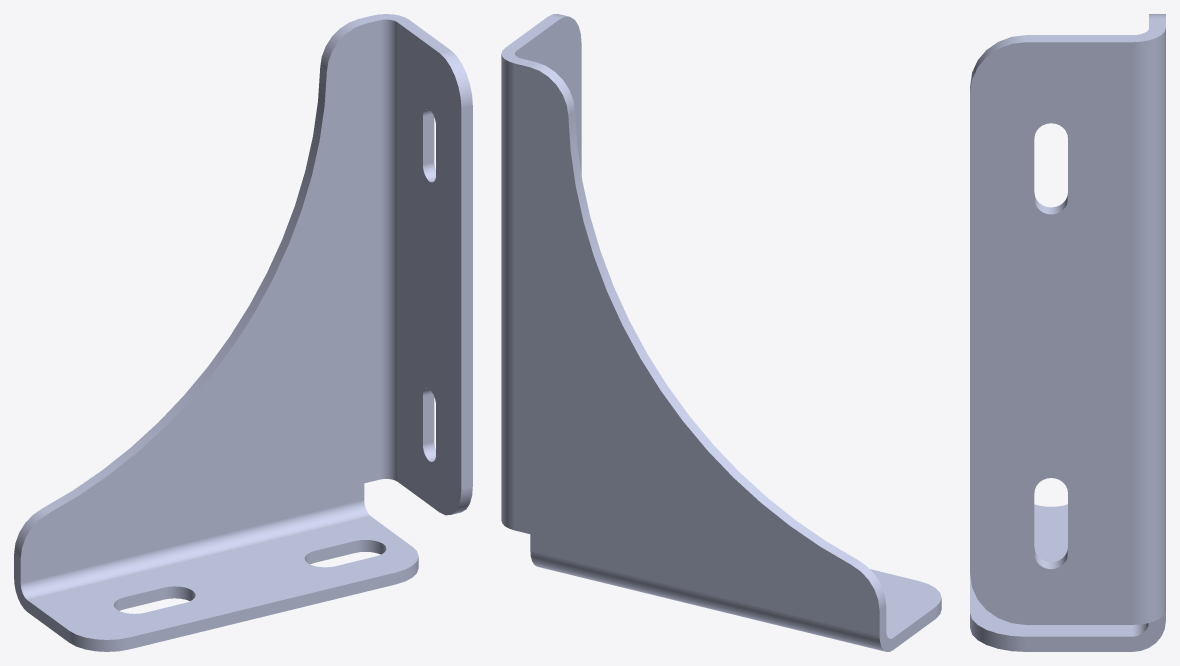
File: PRIVACY_PANEL_BRACKET_RHS.gltf
3 renders of one model, left to right at view 1: azimuth 30°, elevation 25°; view 2: azimuth 150°, elevation 25°; view 3: azimuth 270°, elevation 25°, orthographic. The views are drawn at different scales.
Visible parts, largest first — view 1: PRIVACY PANEL BRACKET_25mm THKMirror; view 2: PRIVACY PANEL BRACKET_25mm THKMirror; view 3: PRIVACY PANEL BRACKET_25mm THKMirror.
Boxes of the visible parts, left/top/right/bottom form: PRIVACY PANEL BRACKET_25mm THKMirror: left=14, top=14, right=472, bottom=651; PRIVACY PANEL BRACKET_25mm THKMirror: left=501, top=14, right=941, bottom=651; PRIVACY PANEL BRACKET_25mm THKMirror: left=970, top=14, right=1165, bottom=651.
Bounding box in the file's own units: 0.1 × 0.125 × 0.035.
